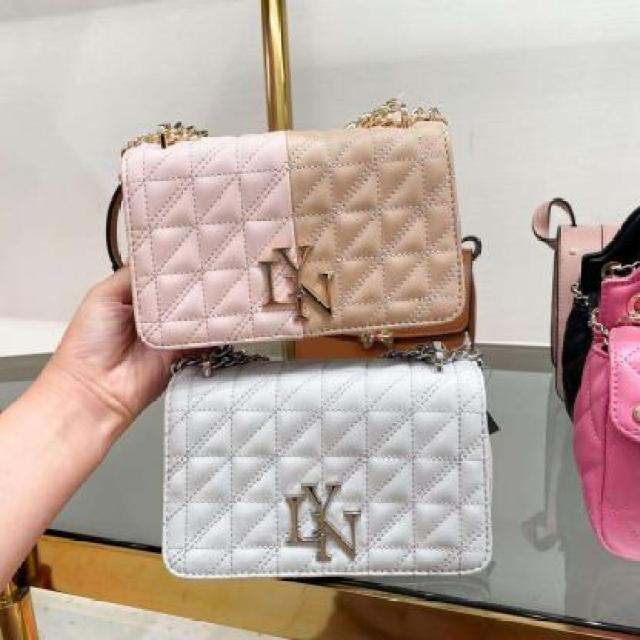Bag: (88, 94, 537, 366), (116, 330, 529, 612)
